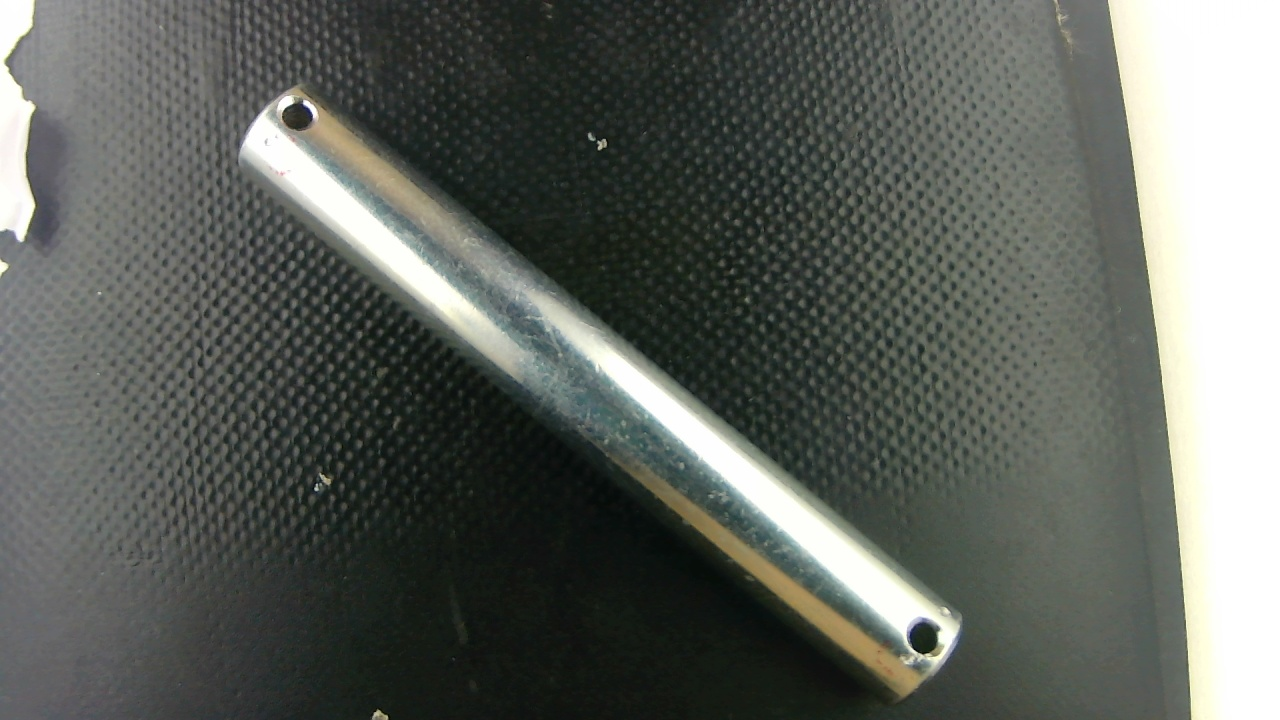drill touch_pin: (892, 648, 924, 672)
